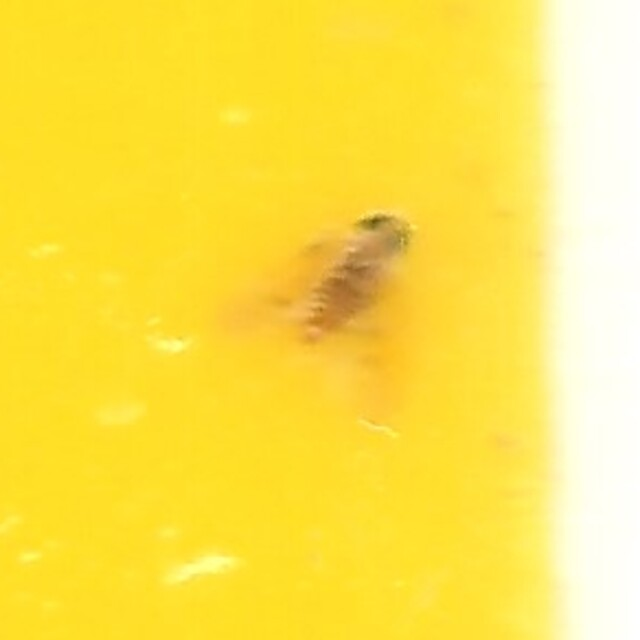Hemiptera: (219, 207, 421, 433)
